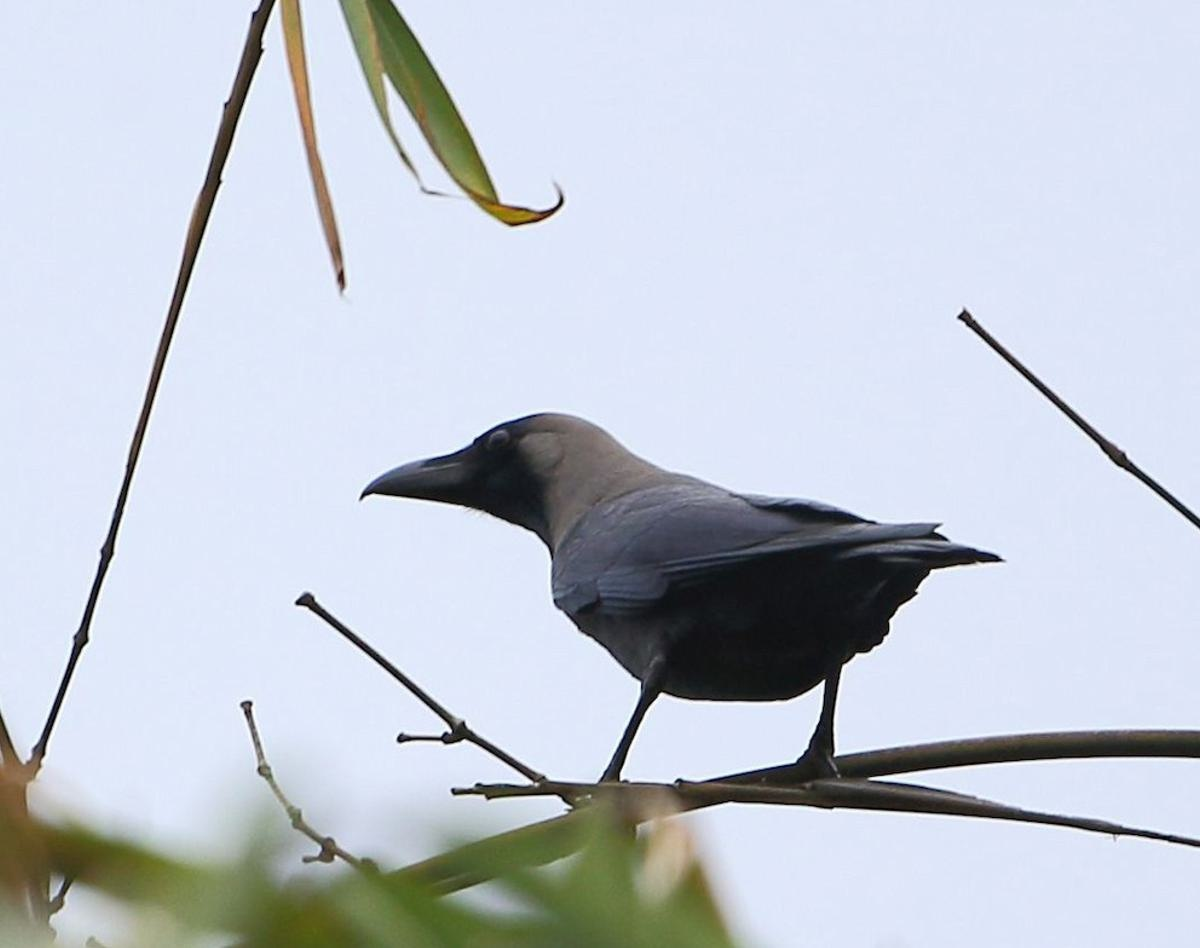crow: (363, 408, 1016, 821)
